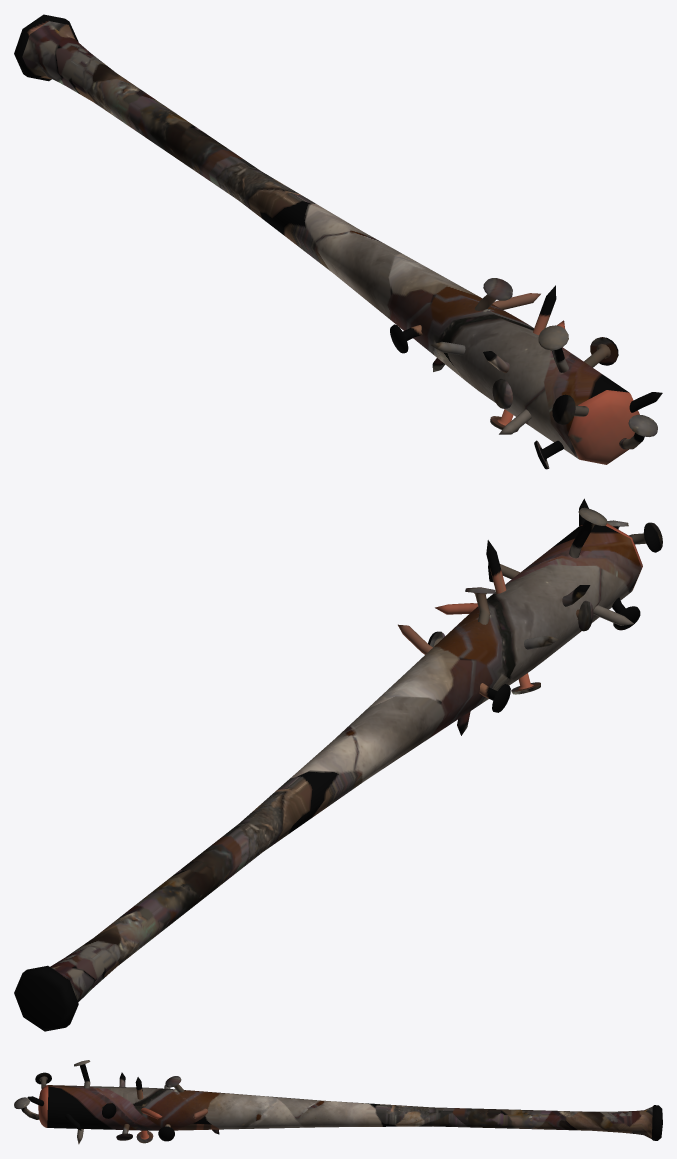
File: baseball_bat.fbx
3 views of the same model, one above another, from view 1: azimuth 30°, elevation 25°; view 2: azimuth 150°, elevation 25°; view 3: azimuth 270°, elevation 25° (orthographic). The views are drawn at different scales.
Parts seen in each view (by area): view 1: baseball_bat; view 2: baseball_bat; view 3: baseball_bat.
Boxes of the visible parts, x1=… form: baseball_bat: x1=14, y1=14, x2=662, y2=469; baseball_bat: x1=14, y1=498, x2=662, y2=1031; baseball_bat: x1=14, y1=1060, x2=662, y2=1144.
Bounding box in the file's own units: 22.53 × 22.18 × 166.
